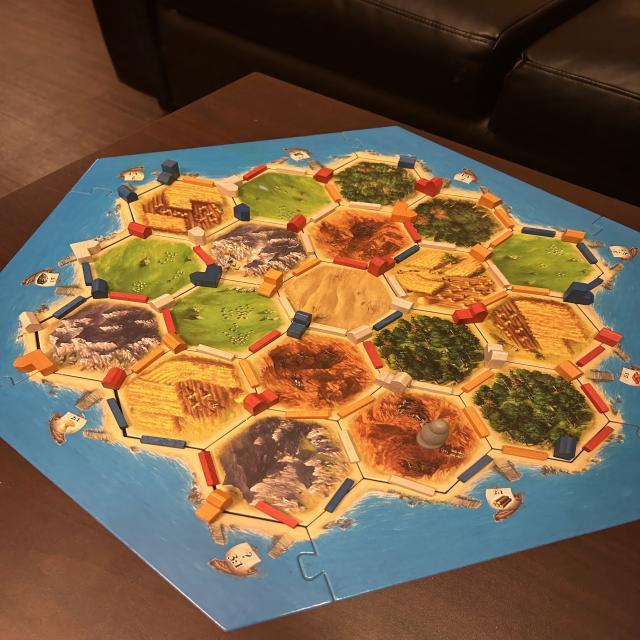blue-city: (189, 264, 224, 290), (564, 281, 595, 307), (287, 311, 315, 338), (156, 158, 183, 184)
blue-road: (458, 454, 496, 482), (326, 478, 356, 512), (51, 294, 87, 320), (138, 434, 188, 450), (106, 398, 130, 430), (391, 244, 422, 264), (373, 312, 403, 330), (577, 244, 599, 264), (522, 226, 558, 238), (81, 262, 96, 287), (582, 277, 606, 292)
blue-settlement: (553, 436, 579, 462), (232, 203, 254, 222), (118, 185, 140, 203), (90, 280, 111, 298), (396, 154, 418, 170)
orange-city: (195, 488, 235, 524), (12, 348, 59, 376), (258, 267, 284, 298), (392, 202, 419, 222)
orange-road: (462, 404, 490, 440), (336, 394, 377, 418), (130, 348, 168, 373), (498, 443, 548, 461), (462, 370, 495, 393), (237, 358, 260, 390), (290, 256, 323, 276), (284, 407, 330, 420), (480, 290, 510, 308), (511, 284, 551, 296), (490, 232, 518, 248), (494, 209, 514, 229), (180, 176, 214, 187), (324, 184, 343, 202)
orange-settlement: (551, 360, 584, 382), (158, 333, 188, 353), (562, 226, 586, 244), (469, 244, 493, 262), (478, 194, 502, 210)
red-city: (244, 389, 280, 417), (452, 302, 488, 326), (366, 254, 398, 278), (414, 176, 445, 198)
red-road: (254, 500, 302, 530), (582, 382, 610, 415), (585, 425, 614, 456), (248, 328, 281, 353), (198, 450, 220, 486), (575, 346, 605, 366), (332, 256, 369, 272), (364, 342, 383, 370), (194, 246, 218, 268), (110, 291, 151, 303), (402, 220, 422, 243), (162, 310, 178, 336), (242, 166, 268, 180)
red-settlement: (102, 368, 132, 391), (594, 328, 624, 348), (126, 222, 155, 241), (286, 215, 308, 235), (312, 167, 336, 184)
white-city: (374, 370, 412, 394), (70, 238, 102, 262), (483, 343, 508, 372), (214, 174, 242, 198)
white-road: (388, 473, 438, 498), (338, 428, 361, 466), (196, 344, 237, 362), (409, 379, 454, 395), (276, 296, 302, 320), (488, 263, 510, 289), (310, 204, 336, 224), (386, 275, 408, 298), (308, 324, 349, 336), (299, 233, 317, 256), (419, 240, 458, 250), (347, 201, 381, 211), (276, 166, 308, 176)
white-settlement: (150, 293, 177, 313), (185, 227, 209, 247), (388, 298, 416, 314)
